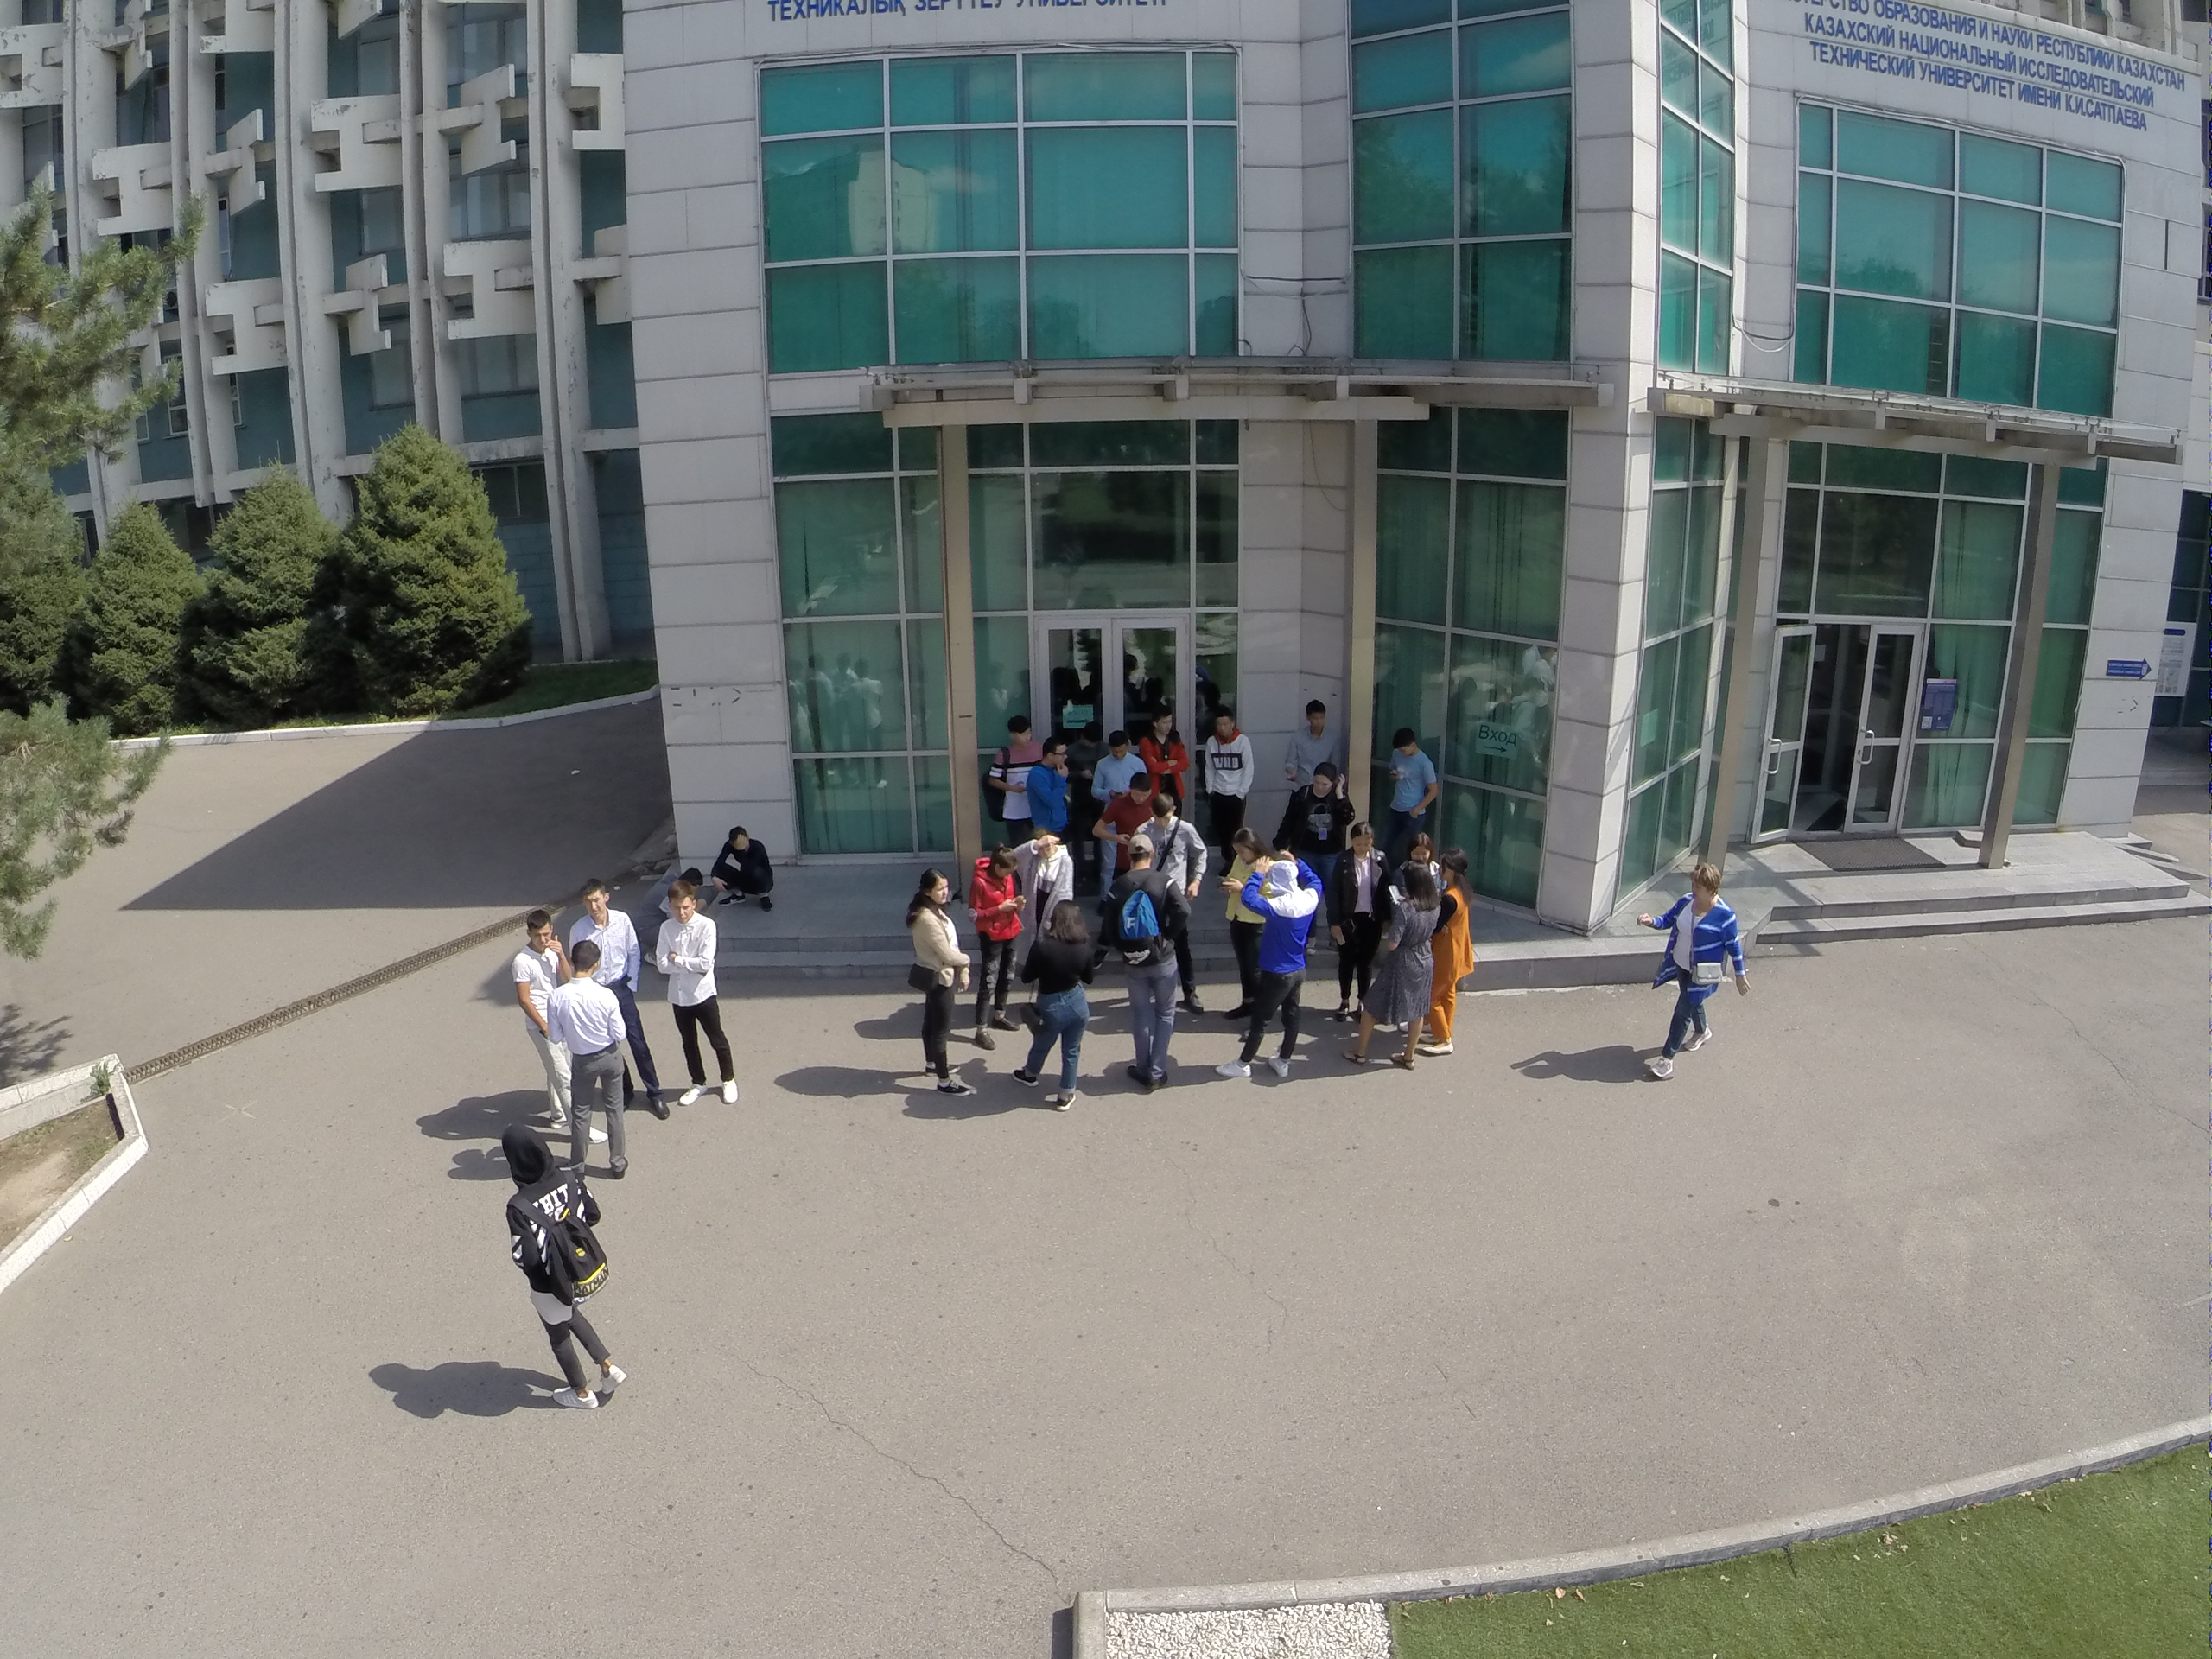person: (478, 1115, 635, 1421), (1629, 848, 1755, 1088), (1220, 847, 1325, 1090), (543, 938, 646, 1185), (645, 874, 742, 1110), (1100, 836, 1188, 1090), (578, 875, 666, 1122), (897, 860, 972, 1106), (1018, 891, 1095, 1123), (1358, 856, 1432, 1074), (967, 833, 1027, 1055), (512, 903, 575, 1104), (1432, 840, 1482, 1071), (976, 715, 1046, 846), (1212, 822, 1259, 1007), (1378, 719, 1440, 853), (709, 814, 780, 920), (1286, 760, 1355, 866), (1201, 700, 1250, 837), (1025, 733, 1080, 845), (1141, 791, 1198, 899), (1331, 820, 1381, 939), (1092, 766, 1156, 855), (1136, 701, 1187, 804), (1014, 820, 1074, 906), (1286, 695, 1341, 777), (1090, 723, 1147, 803)
